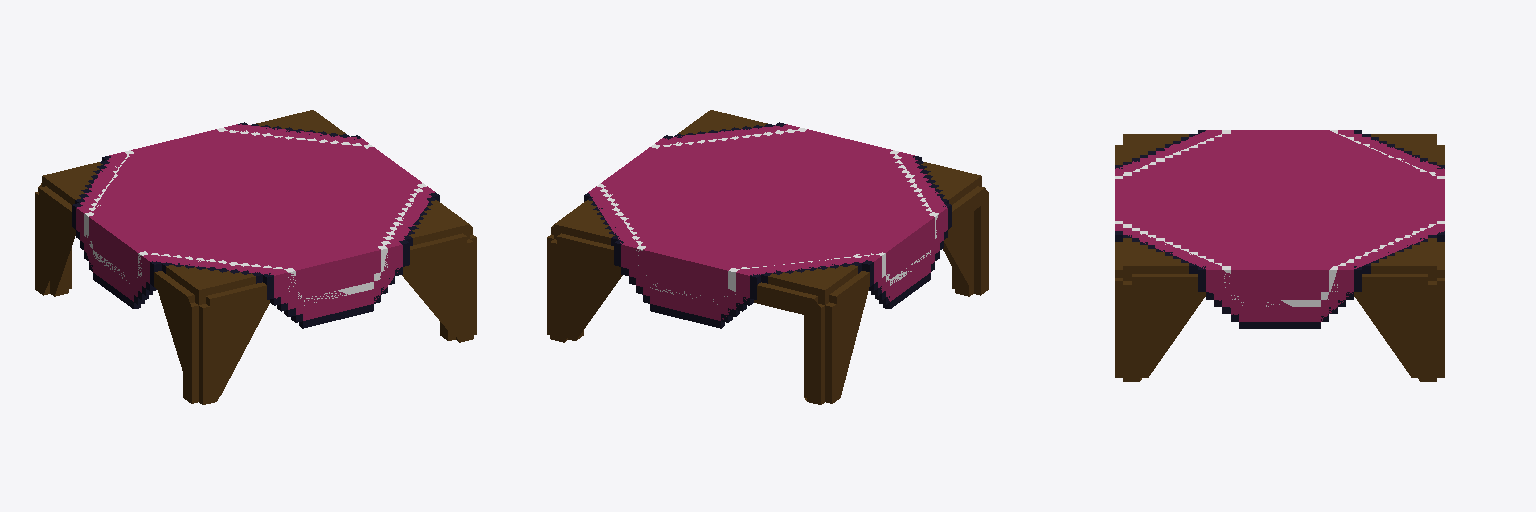
File: Table.obj
The picture shows the model from 3 angles: view 1: azimuth 30°, elevation 25°; view 2: azimuth 150°, elevation 25°; view 3: azimuth 270°, elevation 25°; orthographic projection.
Parts seen in each view (by area): view 1: Table_Table.001; view 2: Table_Table.001; view 3: Table_Table.001.
Part boxes in pixels (bbox=[...]): Table_Table.001: bbox=[35, 110, 476, 404]; Table_Table.001: bbox=[547, 110, 988, 404]; Table_Table.001: bbox=[1115, 130, 1444, 381].
Bounding box in the file's own units: 2.5 × 0.9375 × 2.5.